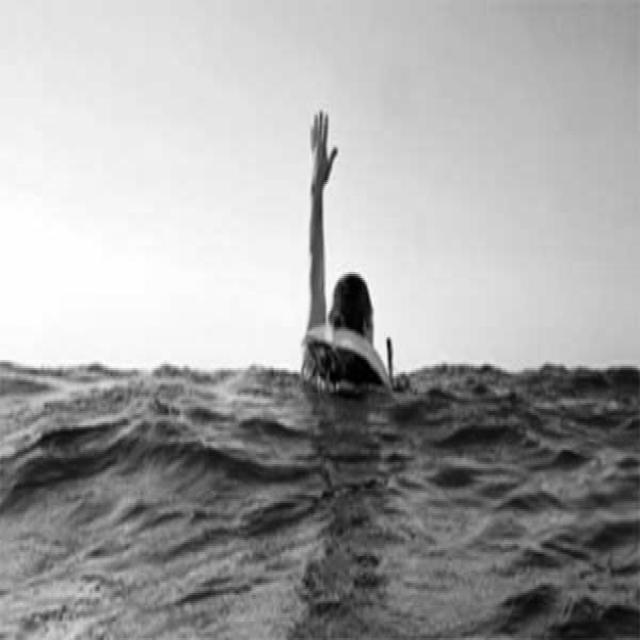drowning: (245, 48, 454, 429)
